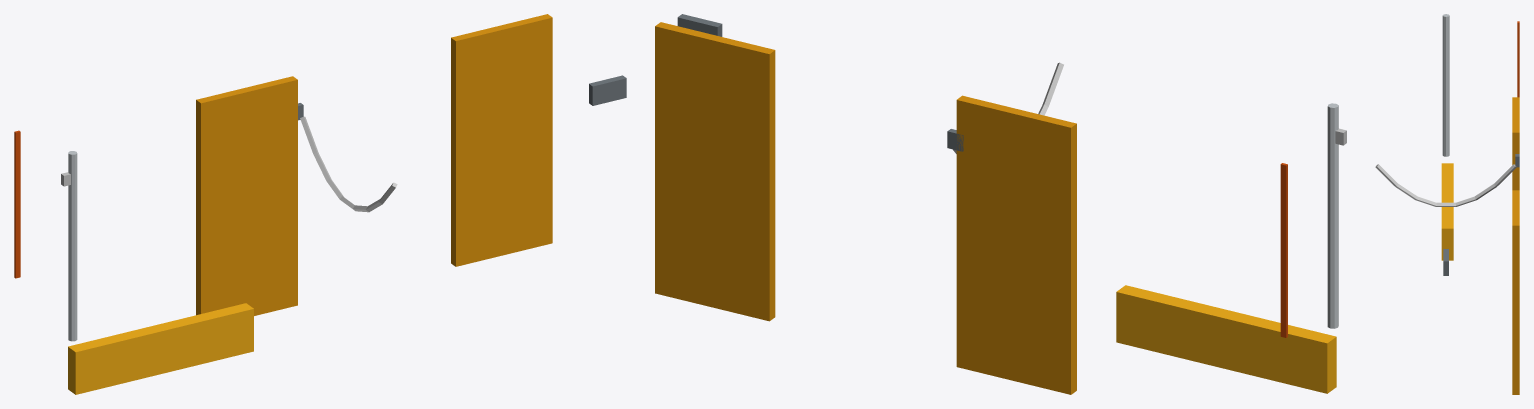
The model's file is body.obj.
The picture shows the model from 3 angles, left to right: view 1: azimuth 30°, elevation 25°; view 2: azimuth 150°, elevation 25°; view 3: azimuth 270°, elevation 25°; orthographic projection. The views are drawn at different scales.
Size of the model in its own units: 3.31 by 1.41 by 0.9818.
